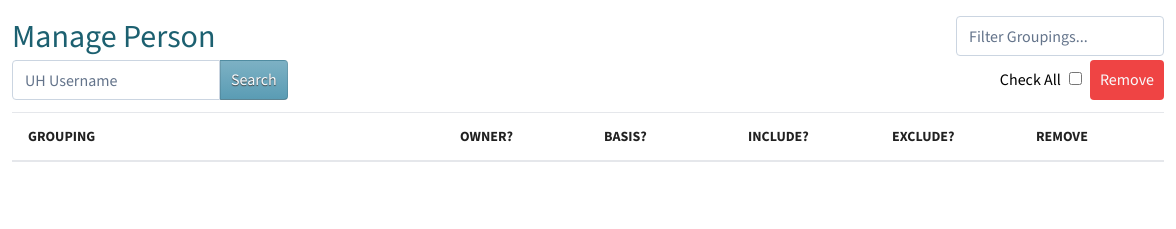
Test: PersonTable › renders error message when empty input is submitted
Click the button "Search": click(254, 80) [220,60,288,100]
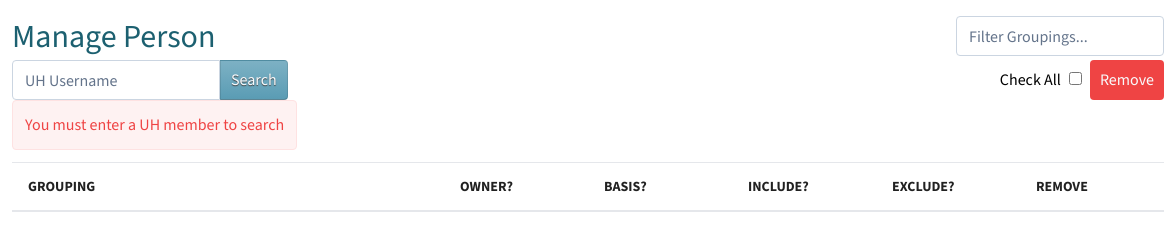
Result: the text "You must enter a UH member to search" is shown at [25,113,284,137]
